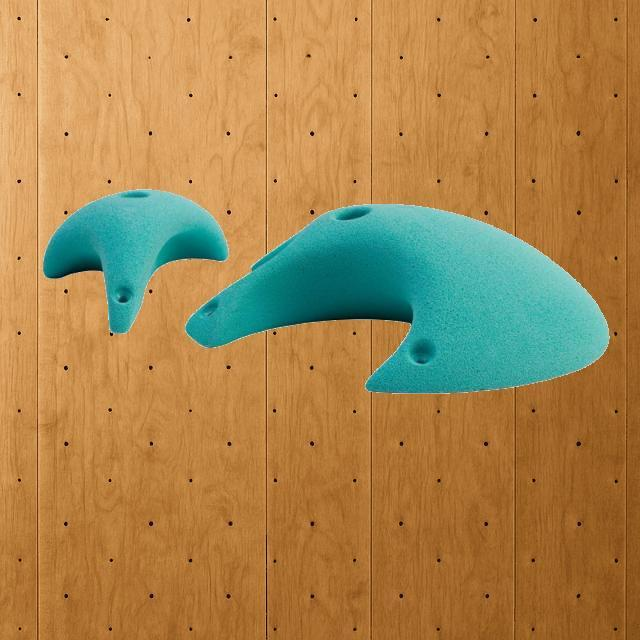Jug: (185, 201, 610, 393), (42, 188, 228, 334)
